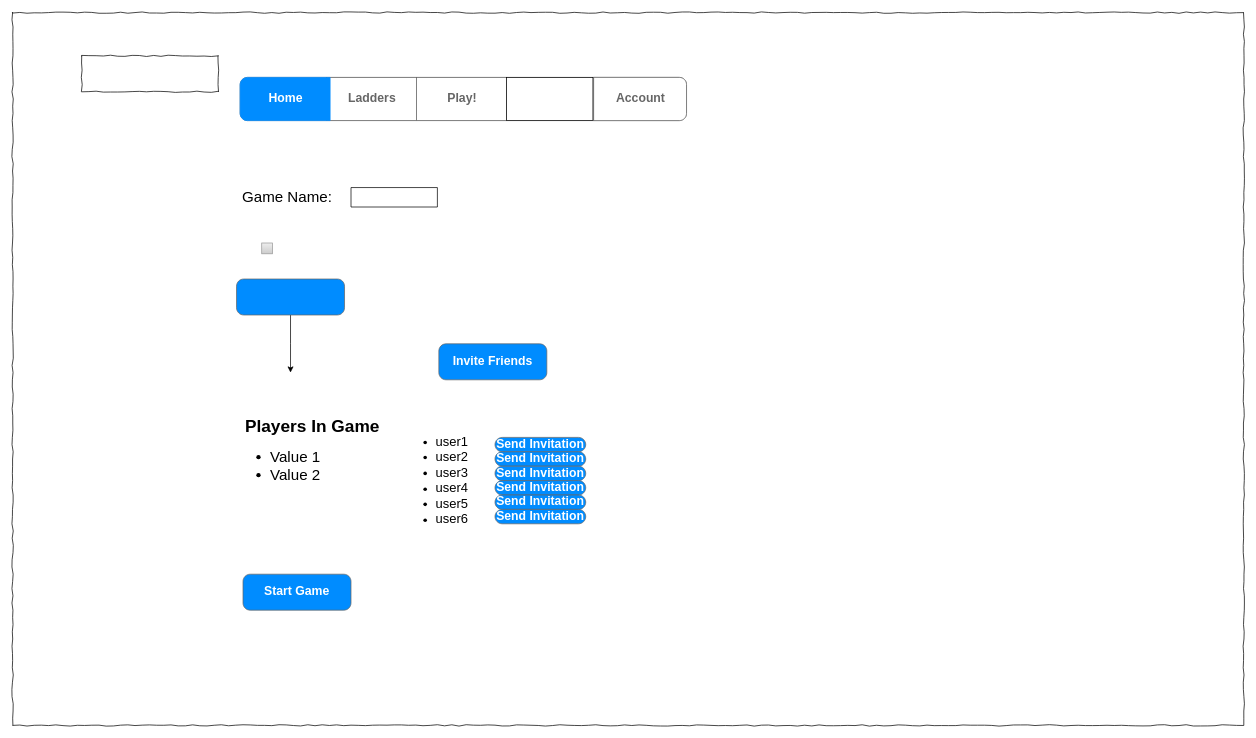
The diagram is 1256 pixels wide and 738 high, and some of its shapes have lost their labels. The centre of each missing label's shape, as x and y in pixels:
Create Game: (x=290, y=296)
Log Out: (x=549, y=99)
LOGO: (x=150, y=73)
Make Private: (x=267, y=248)
